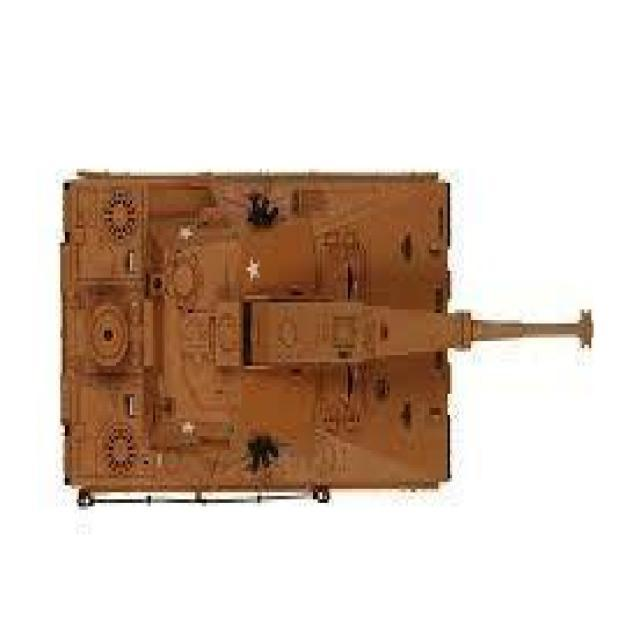MIL_MBT: (59, 149, 611, 522)
